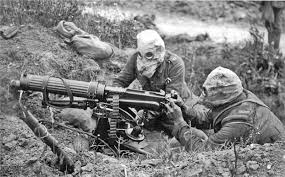gun: (8, 70, 178, 161)
